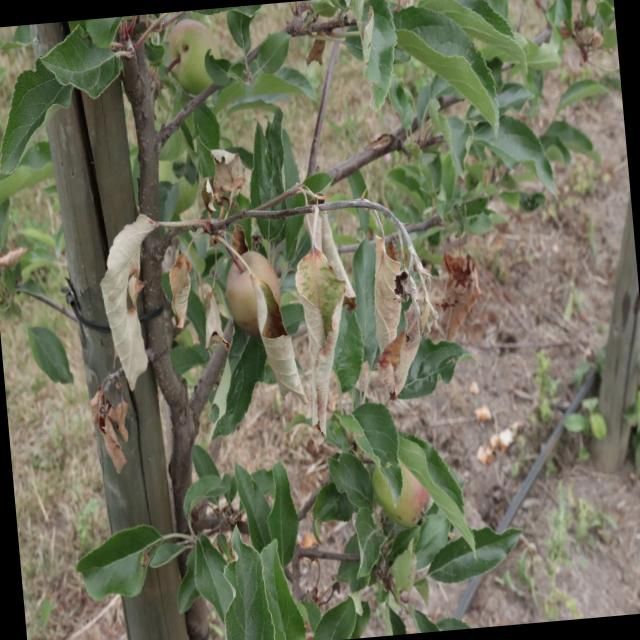-FireBlight-: (282, 229, 358, 439), (382, 204, 426, 409), (101, 207, 150, 389), (246, 272, 298, 391), (164, 232, 220, 336), (80, 378, 139, 464), (427, 260, 481, 347), (191, 122, 237, 208)
